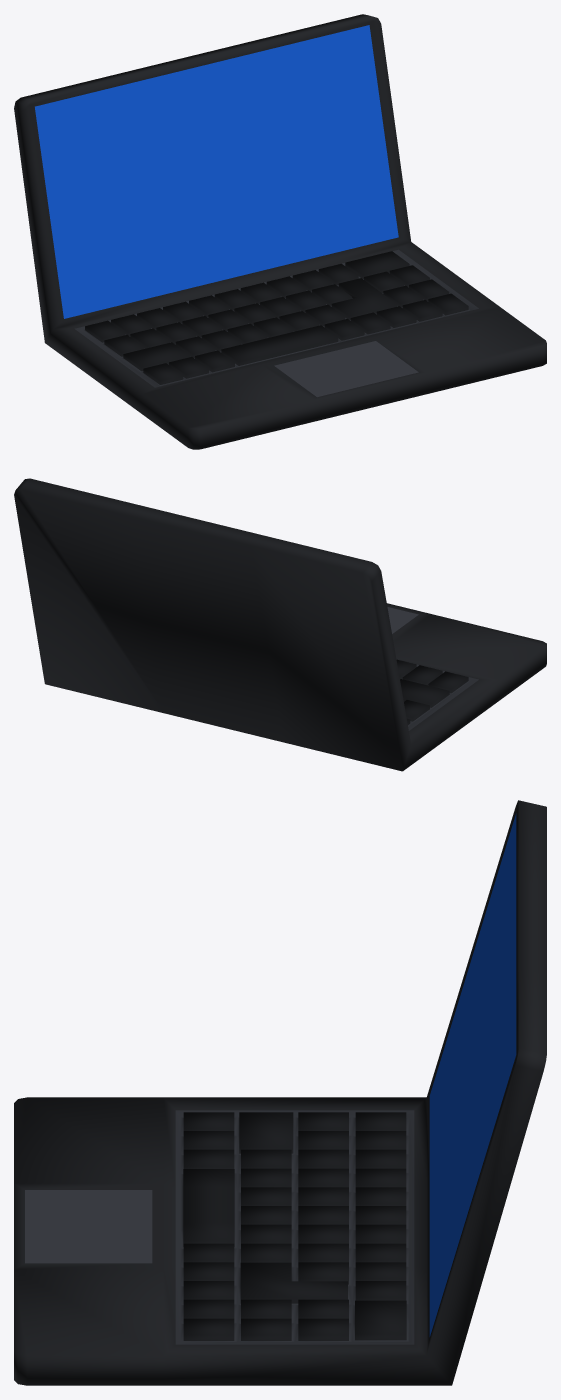
Rendered from PROP_Laptop.fbx.
The picture shows the model from 3 angles, top to bottom: view 1: azimuth 30°, elevation 25°; view 2: azimuth 150°, elevation 25°; view 3: azimuth 270°, elevation 25°; orthographic projection. The views are drawn at different scales.
Parts seen in each view (by area): view 1: Laptop; view 2: Laptop; view 3: Laptop.
Part boxes in pixels (bbox=[...]): Laptop: bbox=[14, 14, 546, 449]; Laptop: bbox=[14, 478, 546, 771]; Laptop: bbox=[14, 800, 546, 1385].
Size of the model in its own units: 0.486 by 0.2911 by 0.4234.
